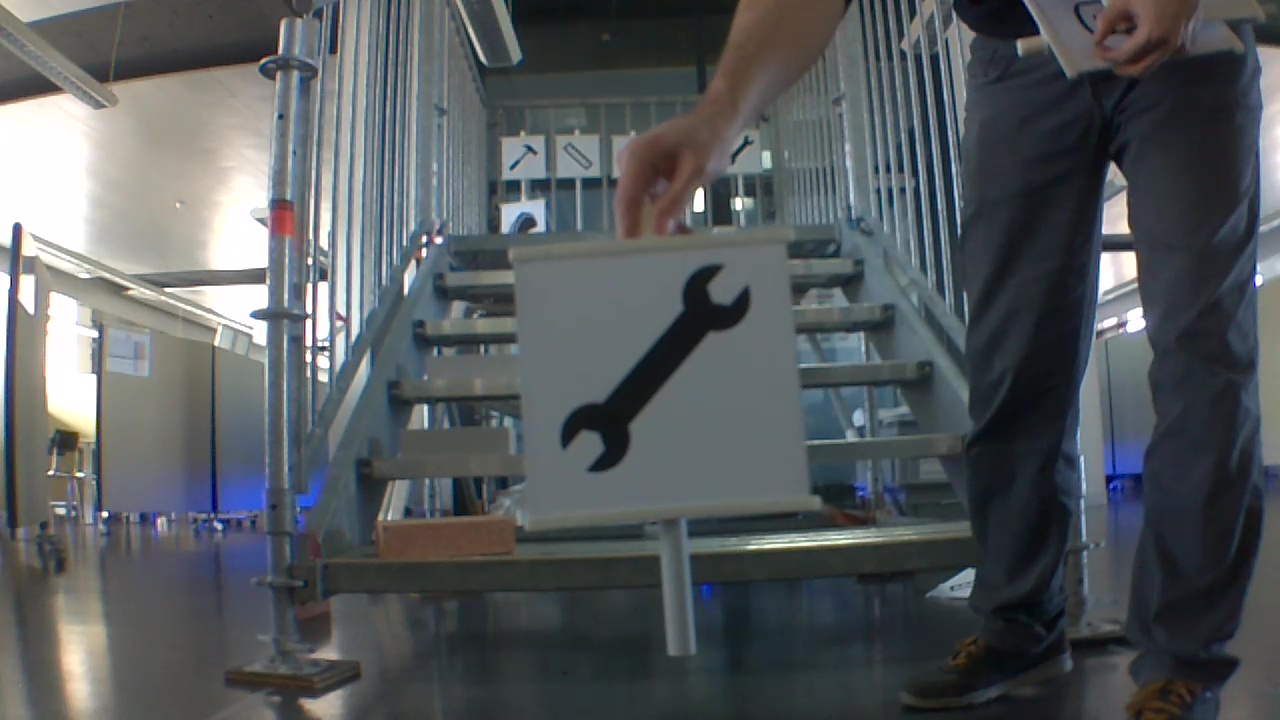brick: (373, 516, 519, 564), (406, 431, 510, 453), (427, 353, 516, 377)
hammer: (507, 141, 540, 172)
ruler: (559, 143, 596, 169)
taco: (505, 210, 539, 235)
wrench: (557, 261, 757, 478), (727, 136, 756, 166)
